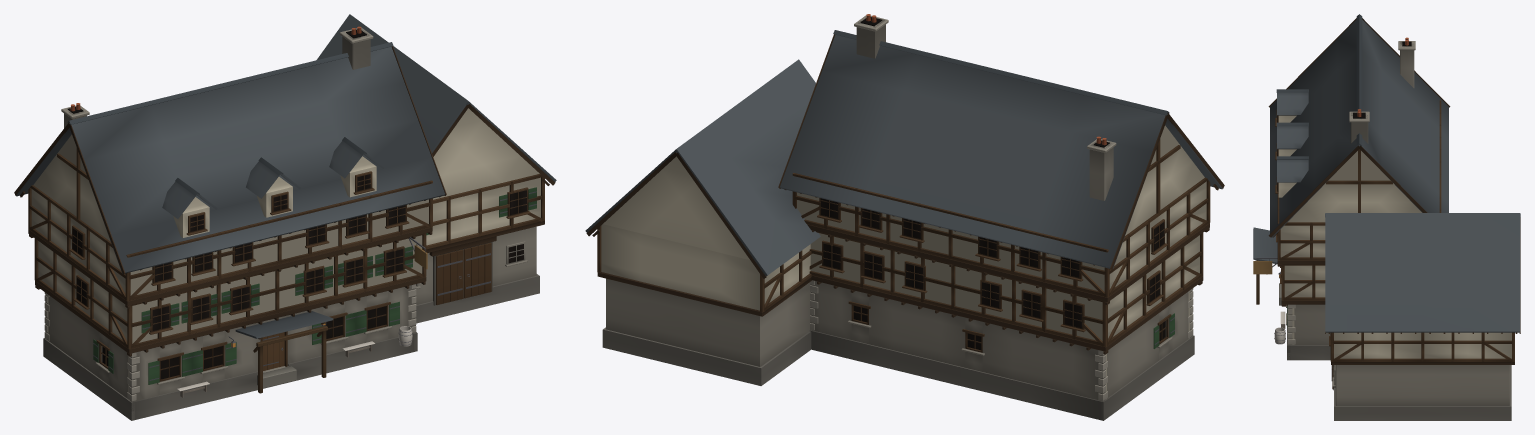
The model's file is prancing_pony.glb.
3 views of the same model, side by side, from view 1: azimuth 30°, elevation 25°; view 2: azimuth 150°, elevation 25°; view 3: azimuth 270°, elevation 25° (orthographic). The views are drawn at different scales.
Parts seen in each view (by area): view 1: ext, door0; view 2: ext; view 3: ext.
Part boxes in pixels (bbox=[...]): ext: bbox=[14, 14, 556, 420]; door0: bbox=[262, 332, 284, 370]; ext: bbox=[585, 14, 1224, 420]; ext: bbox=[1253, 14, 1520, 420].
Bounding box in the file's own units: 27.97 × 16.88 × 16.87.
